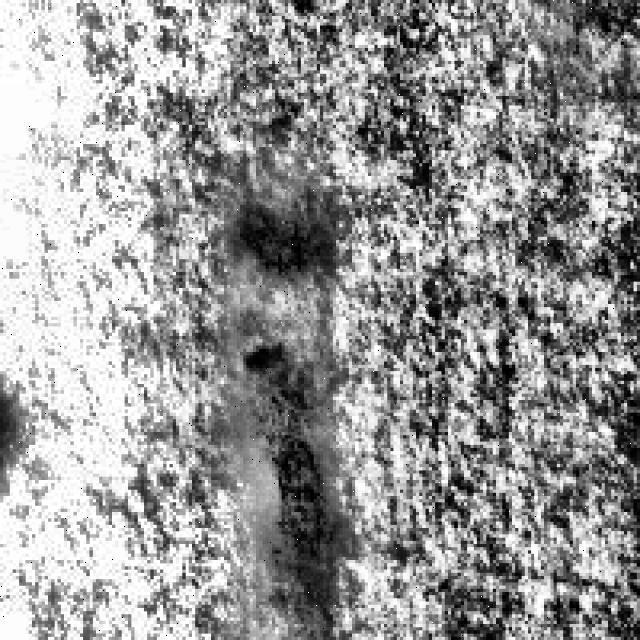Scratches: (230, 332, 349, 602), (236, 192, 342, 272)
